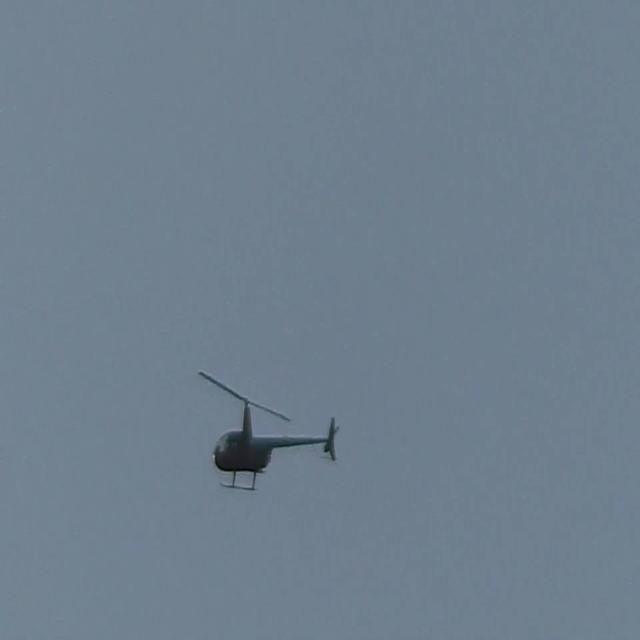CIV_HELO: (212, 396, 339, 492)
